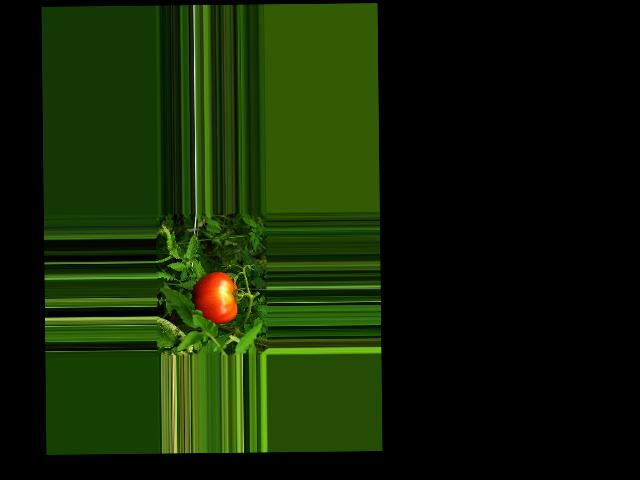tomato: (192, 272, 238, 323)
